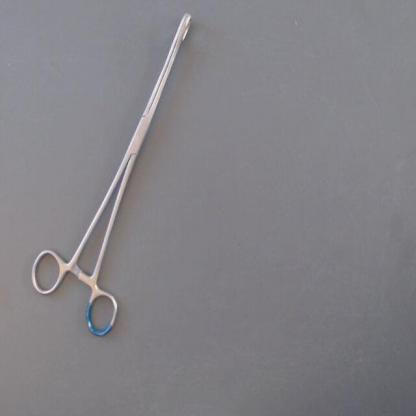Sponge Forceps: (23, 6, 200, 348)
